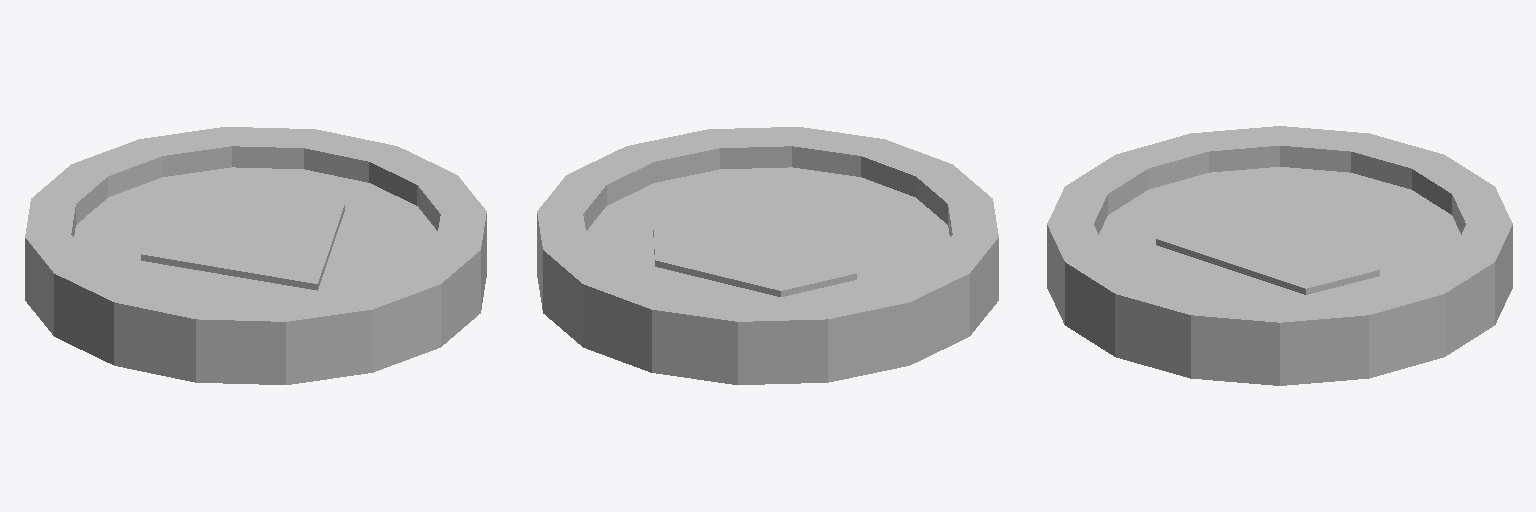
Rendered from coin-diamond.obj.
The picture shows the model from 3 angles: view 1: azimuth 30°, elevation 25°; view 2: azimuth 150°, elevation 25°; view 3: azimuth 270°, elevation 25°; orthographic projection.
Parts seen in each view (by area): view 1: coin_Cylinder; view 2: coin_Cylinder; view 3: coin_Cylinder.
Part boxes in pixels (bbox=[...]): coin_Cylinder: bbox=[25, 127, 486, 384]; coin_Cylinder: bbox=[537, 127, 998, 384]; coin_Cylinder: bbox=[1047, 126, 1512, 385].
Size of the model in its own units: 20 by 3 by 20.